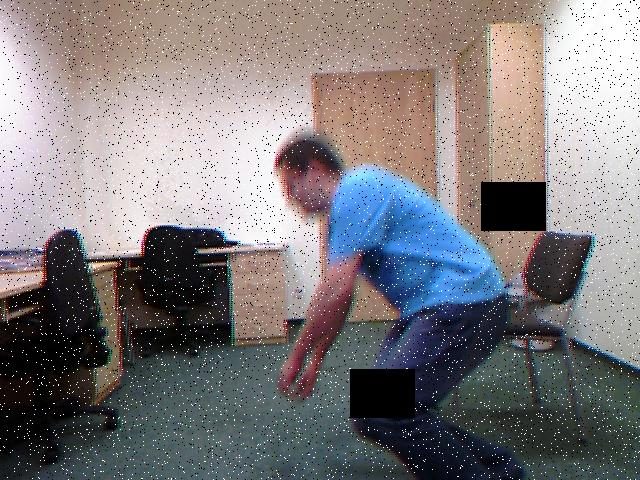near-fall: (247, 118, 534, 480)
